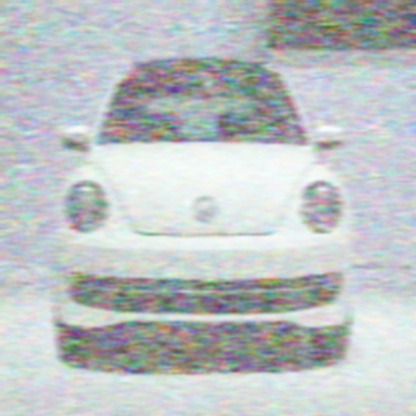Vehicle: (49, 52, 356, 370)
